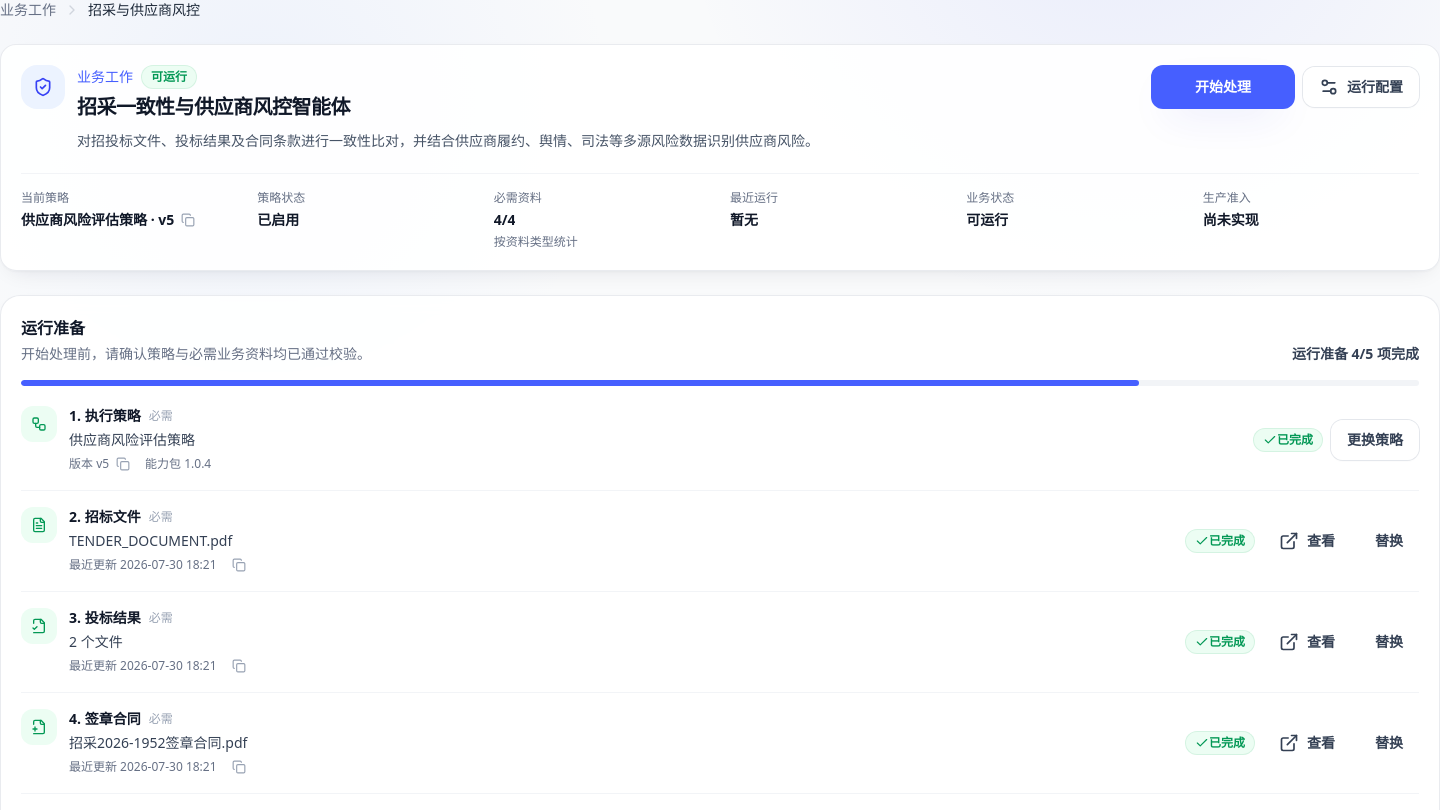
Test: business works page › shows ready state and confirms before entering procurement processing
Expected: the text "可运行" in the row of "运行配置" is shown, [151,68,187,85]
Click the button "开始处理".
click(1223, 87)  # box [1151,65,1295,109]
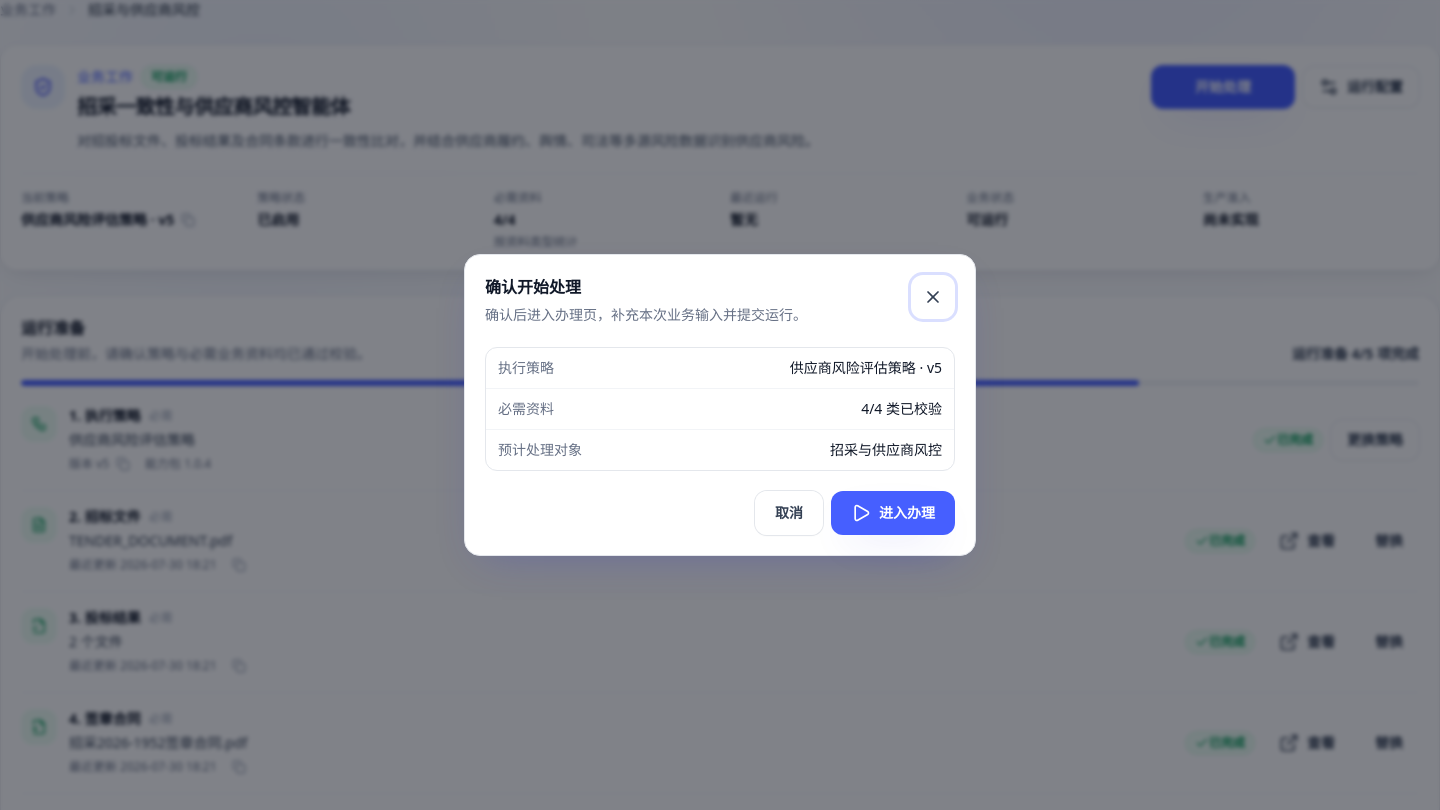
Expected: the text "供应商风险评估策略 · v5" below "当前策略" is shown, [21,210,174,229]
Expected: the heading "确认开始处理" is shown, [485,276,581,298]
